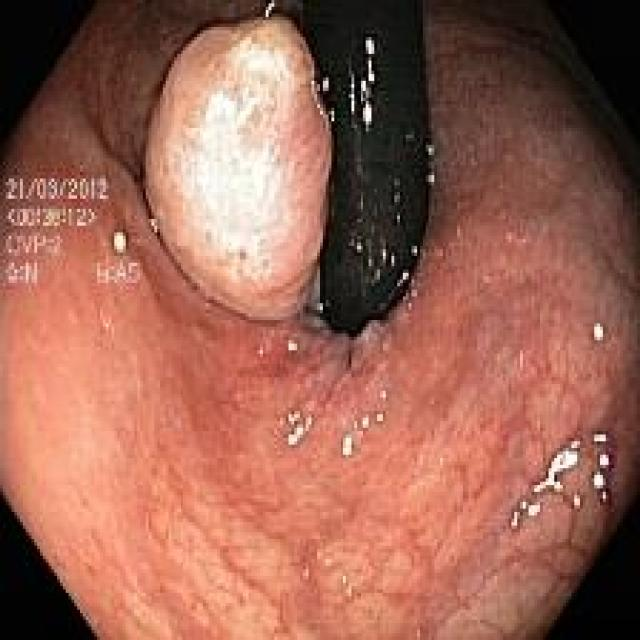Polyps: (144, 16, 332, 322)
